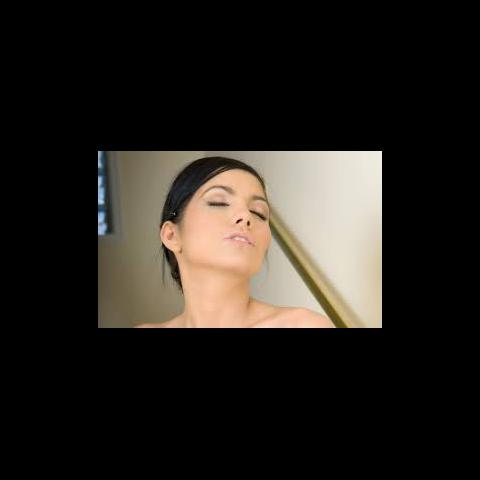closed: (201, 183, 270, 224)
